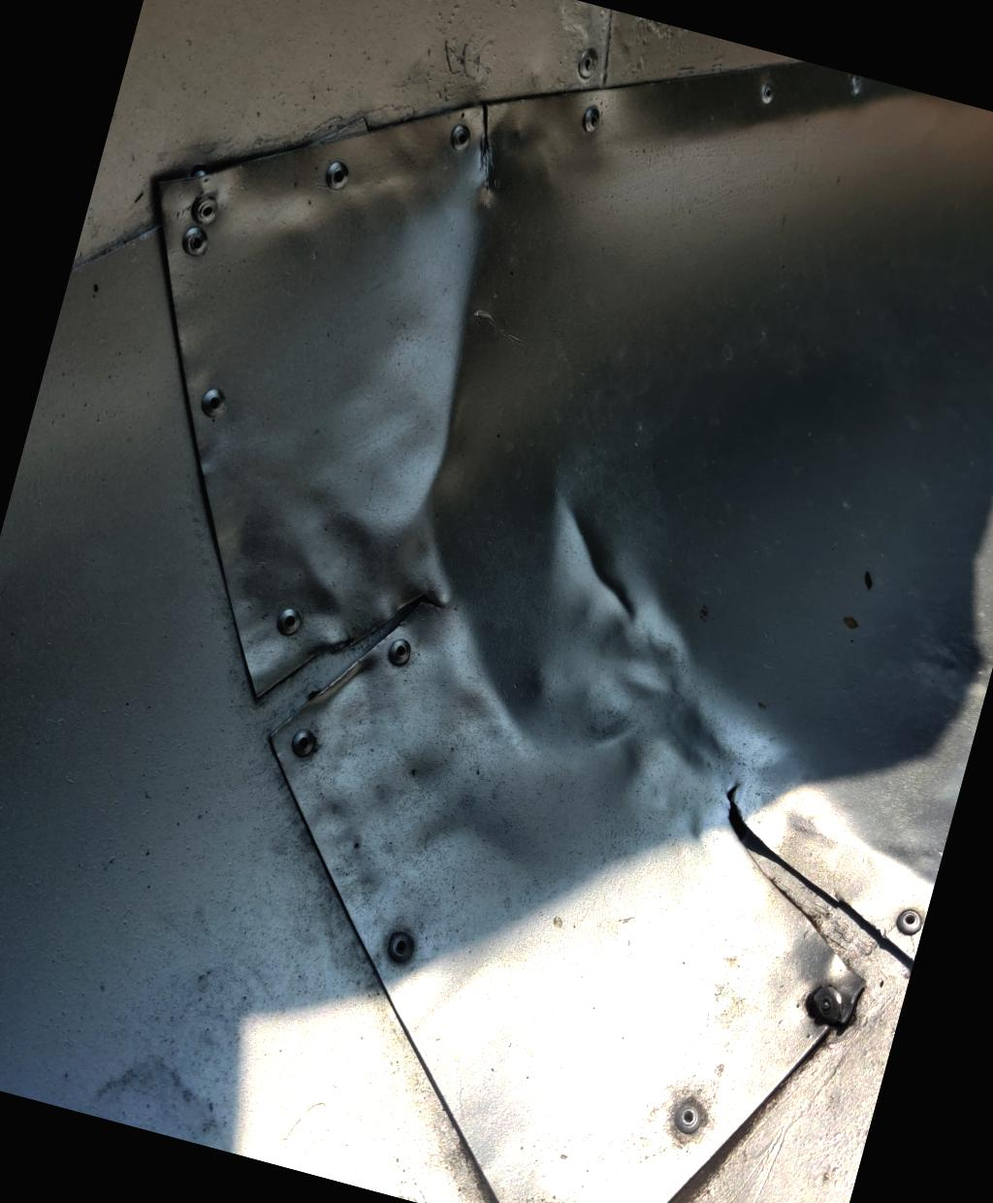crack: (666, 752, 953, 1027), (219, 512, 479, 809), (432, 78, 549, 223)
dent: (254, 69, 953, 842)
